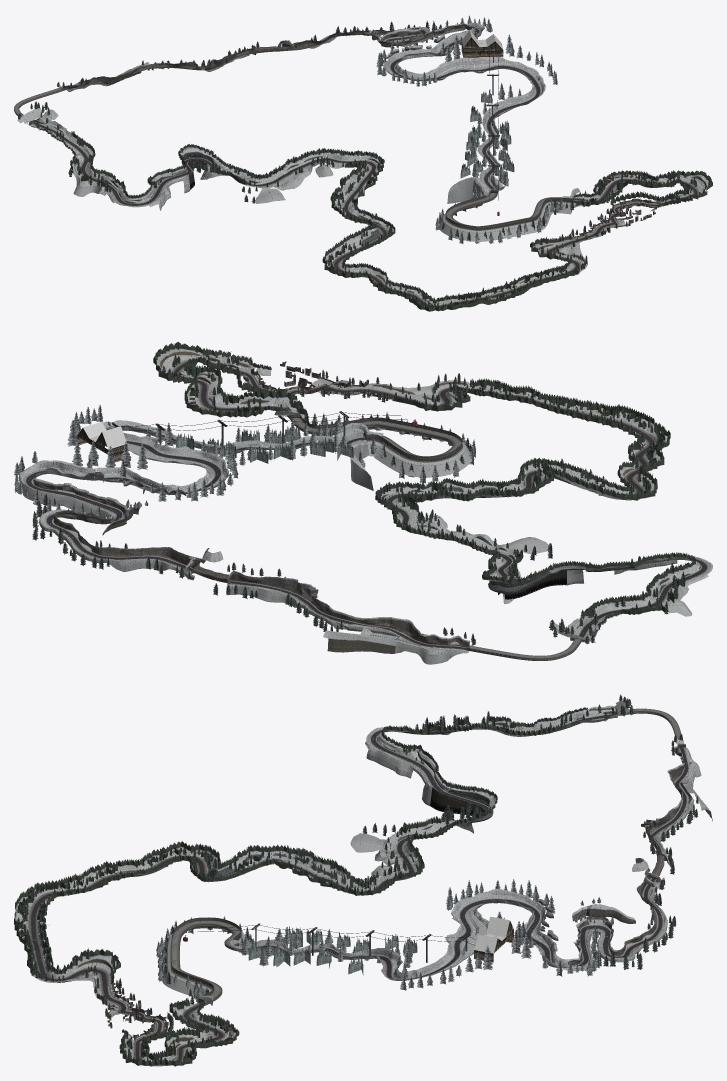
File: summitfinale.fbx
3 views of the same model, one above another, from view 1: azimuth 30°, elevation 25°; view 2: azimuth 150°, elevation 25°; view 3: azimuth 270°, elevation 25° (orthographic). The views are drawn at different scales.
Visible parts, largest first — view 1: 0018.001, 0022.011, 0020, 0006.001, 0005.003, 0020.008, 0001.011, 0024.001, 0009.001, 0019.006; view 2: 0021.018, 0020.008, 0016.002, 0011.023, 0004.001, 0006.001, 0005.003, 0024.001, 0018.006, 0011, 0020, 0018.030 (+16 smaller); view 3: 0020.009, 0006.001, 0017.006, 0018.001, 0024.001, 0018.030, 0002.001, 0022.011, 0005.003, 0004.001, 0018.006.
Boxes of the visible parts, <box> form: 0018.001: <box>426,57,534,78</box>; 0022.011: <box>465,204,552,241</box>; 0020: <box>447,177,489,203</box>; 0006.001: <box>200,164,291,203</box>; 0005.003: <box>282,160,370,188</box>; 0020.008: <box>460,120,511,178</box>; 0001.011: <box>409,290,521,311</box>; 0024.001: <box>612,170,712,199</box>; 0009.001: <box>52,134,97,196</box>; 0019.006: <box>483,74,535,123</box>; 0021.018: <box>367,441,472,477</box>; 0020.008: <box>207,426,353,463</box>; 0016.002: <box>18,460,135,492</box>; 0011.023: <box>371,633,468,664</box>; 0004.001: <box>405,474,553,502</box>; 0006.001: <box>478,535,552,603</box>; 0005.003: <box>393,499,485,544</box>; 0024.001: <box>153,341,221,414</box>; 0018.006: <box>113,427,214,461</box>; 0011: <box>327,638,395,653</box>; 0020: <box>346,440,373,490</box>; 0018.030: <box>83,421,127,449</box>; 0020.009: <box>248,927,369,974</box>; 0006.001: <box>350,819,473,857</box>; 0017.006: <box>455,889,553,933</box>; 0018.001: <box>434,910,488,974</box>; 0024.001: <box>120,1031,239,1066</box>; 0018.030: <box>474,916,513,953</box>; 0002.001: <box>72,841,201,881</box>; 0022.011: <box>161,933,208,996</box>; 0005.003: <box>362,851,407,891</box>; 0004.001: <box>249,844,361,886</box>; 0018.006: <box>428,905,464,971</box>.
Size of the model in its own units: 202408 by 33409 by 190862.
